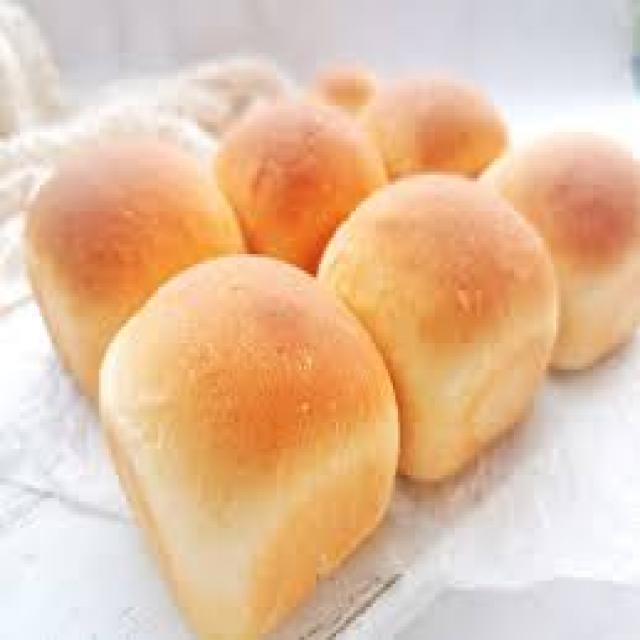organic waste: (96, 250, 398, 636), (311, 165, 556, 478), (22, 135, 245, 396), (477, 129, 637, 366), (210, 92, 383, 270), (356, 76, 509, 178), (314, 66, 376, 102)
